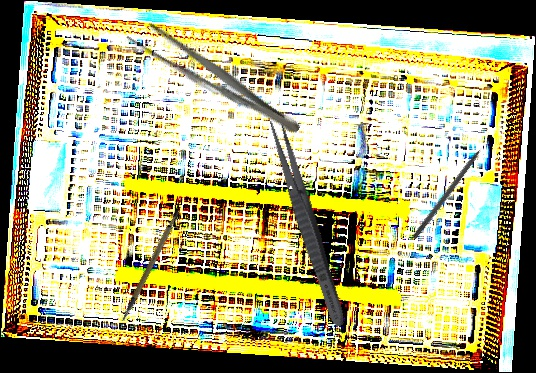Dressing Forceps: (123, 14, 308, 143), (263, 116, 351, 330)
Hook Surgical: (411, 136, 493, 241)
Scalpel Handle: (104, 208, 194, 323)
